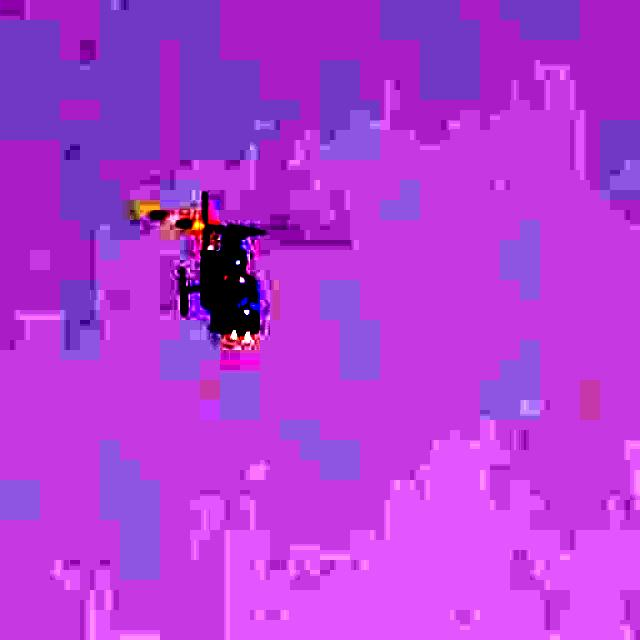drone: (85, 114, 341, 400)
